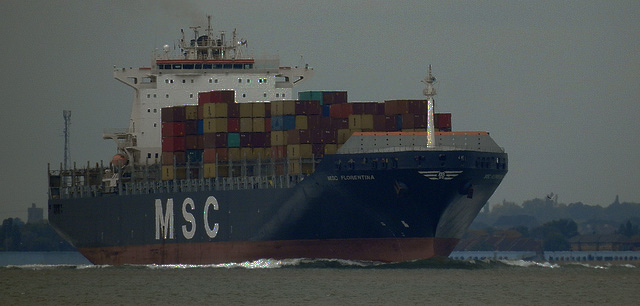container_ship: (43, 11, 512, 257)
